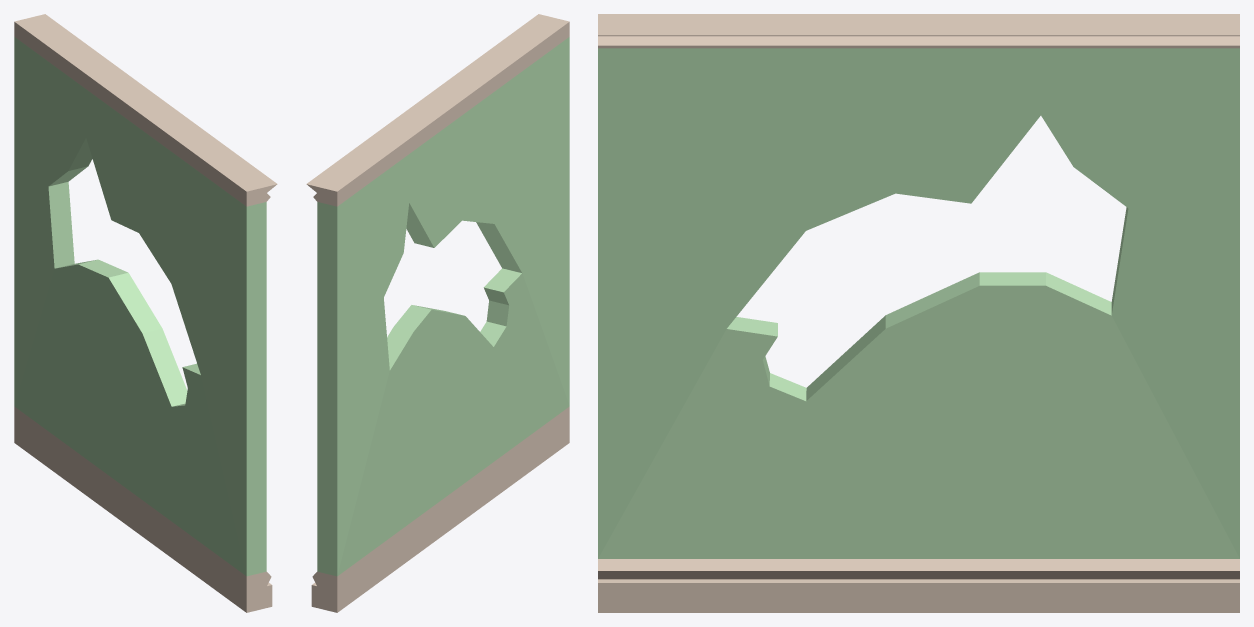
File: Wall_LargeHole7.fbx
3 views of the same model, side by side, from view 1: azimuth 30°, elevation 25°; view 2: azimuth 150°, elevation 25°; view 3: azimuth 270°, elevation 25° (orthographic). The views are drawn at different scales.
Visible parts, largest first — view 1: Cube; view 2: Cube; view 3: Cube.
Boxes of the visible parts, bbox=[...] form: Cube: bbox=[14, 14, 277, 612]; Cube: bbox=[306, 14, 569, 612]; Cube: bbox=[598, 14, 1239, 612].
Size of the model in its own units: 73.97 by 800 by 800.
